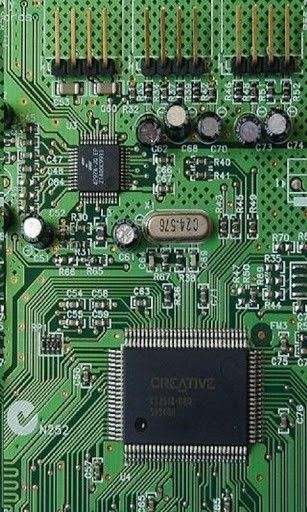capacitor: (158, 96, 191, 149), (20, 207, 55, 254), (132, 107, 166, 152), (260, 101, 291, 150), (102, 217, 144, 251), (234, 106, 262, 154), (194, 107, 226, 145)
